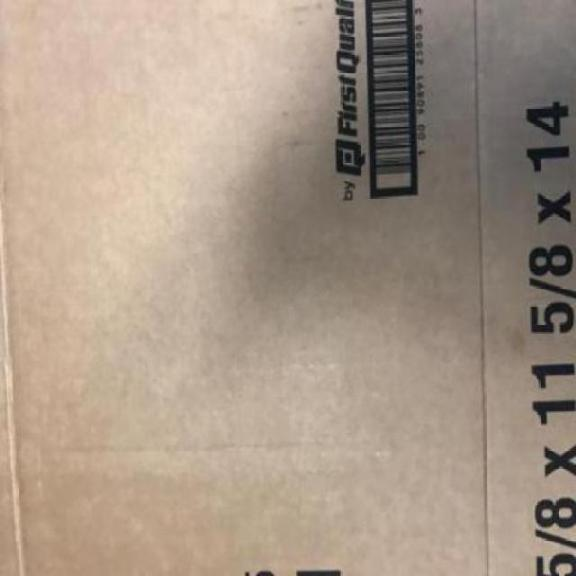Kertas: (0, 0, 574, 574)
